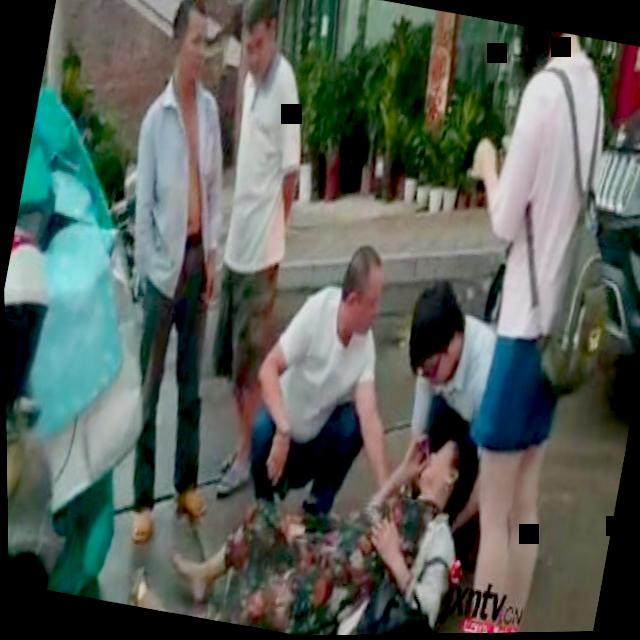Fall-Detected: (106, 361, 495, 639)
